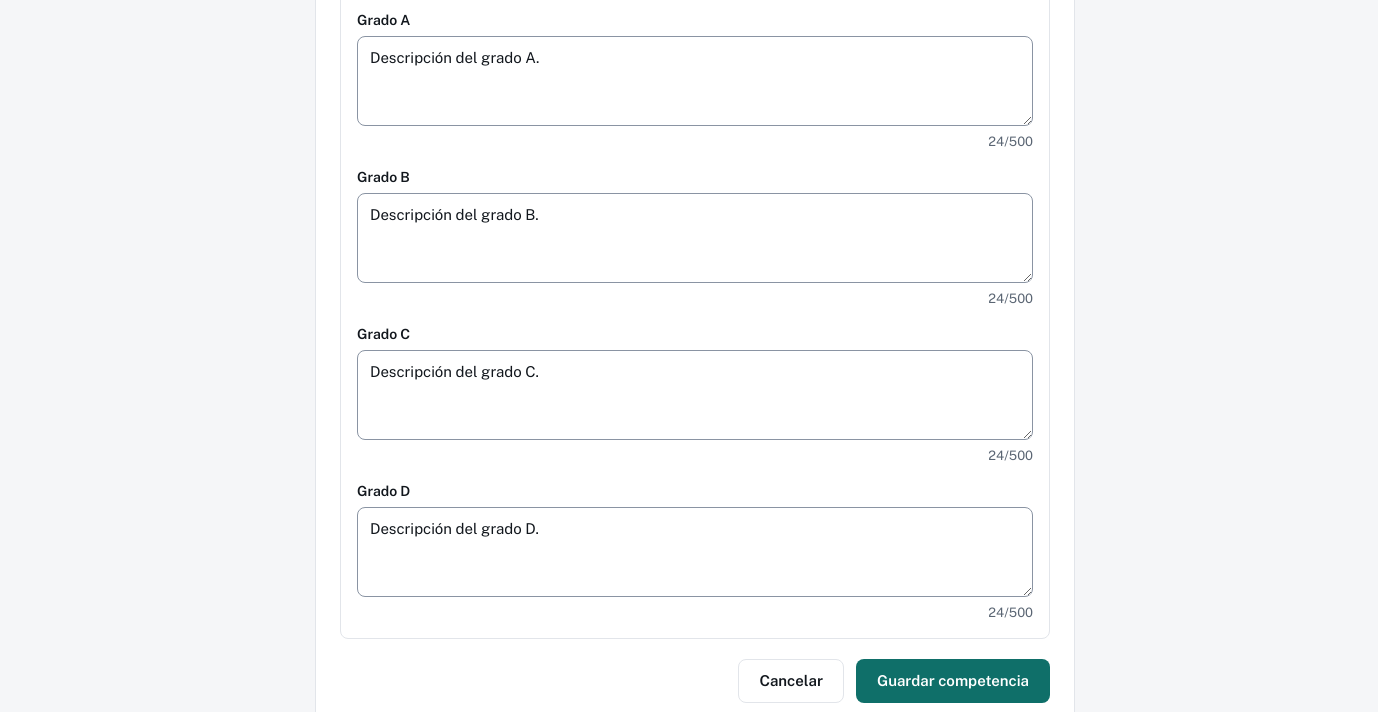
Test: CompetenciaFormPage (editar) › mapea un 422 al campo correspondiente
(page scrolled)
Click the button "Guardar competencia" at (953, 681), box [856,659,1050,703]
(page scrolled)
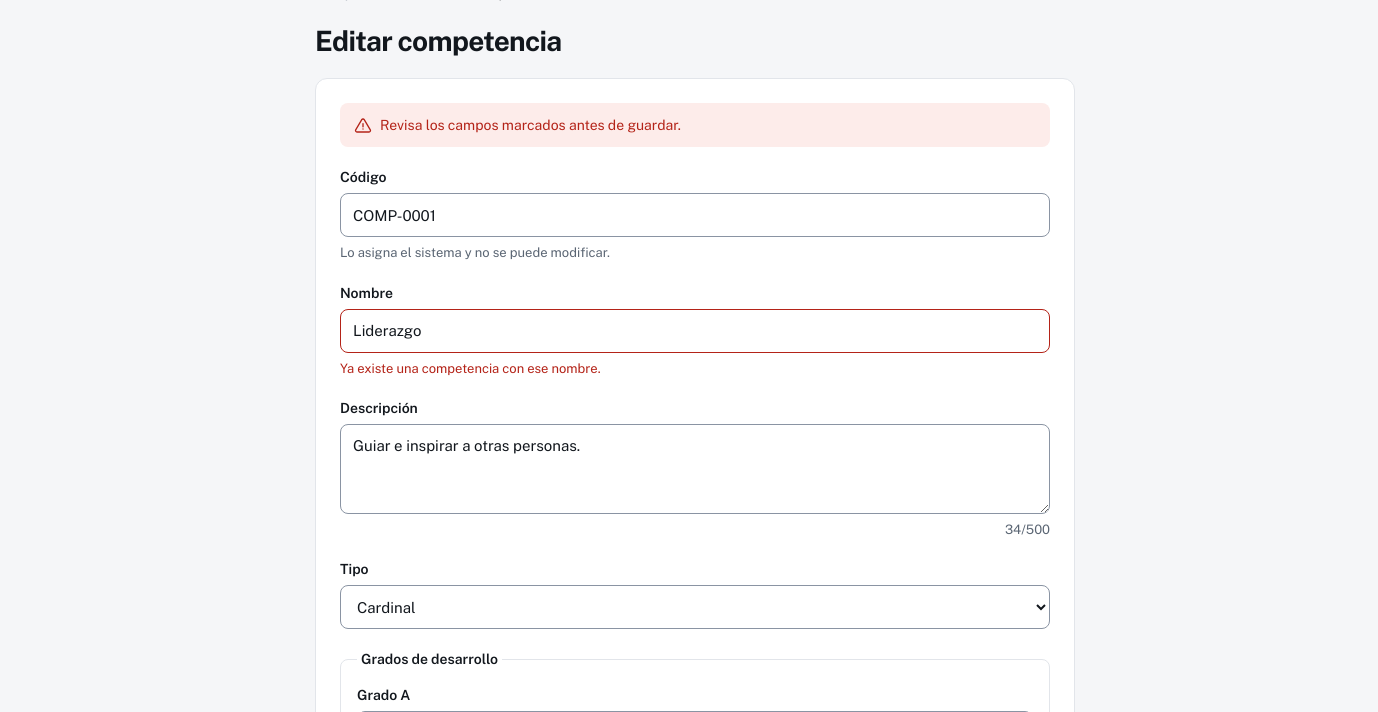
Result: the text "Ya existe una competencia con ese nombre." is shown at [340,360,601,376]
